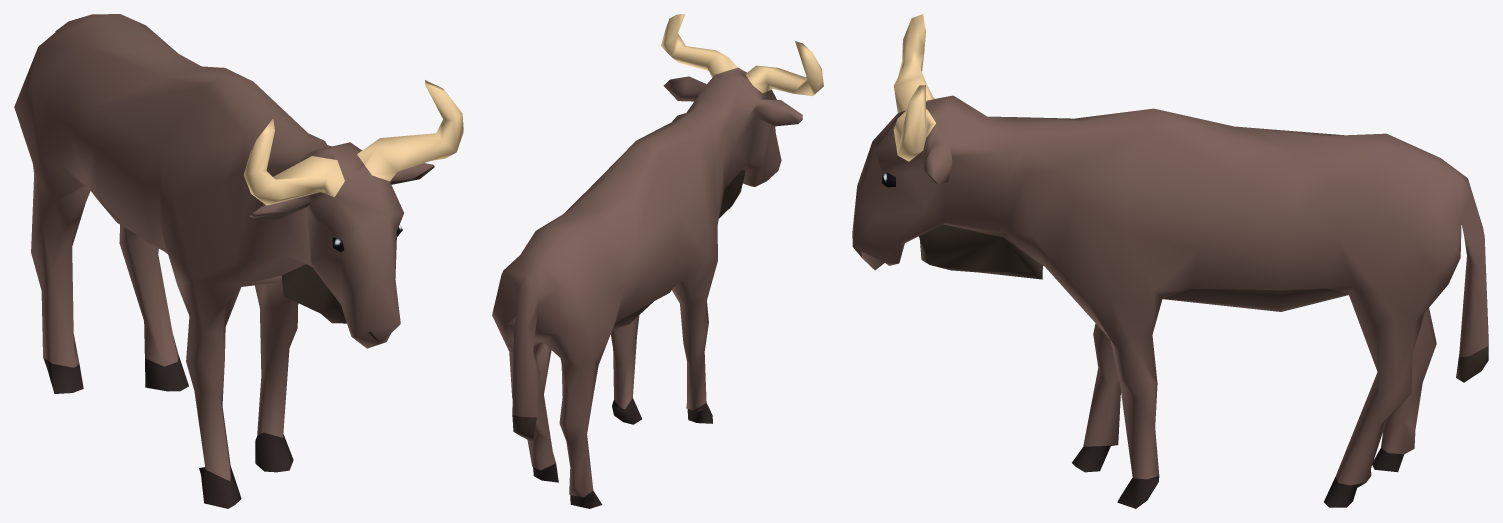
The model's file is a3c8bdcc-8b60-46e1-87e8-f16289769fc8.glb.
3 renders of one model, left to right at view 1: azimuth 30°, elevation 25°; view 2: azimuth 150°, elevation 25°; view 3: azimuth 270°, elevation 25°, orthographic. The views are drawn at different scales.
Parts seen in each view (by area): view 1: Wildebeast; view 2: Wildebeast; view 3: Wildebeast.
Part boxes in pixels (bbox=[...]): Wildebeast: bbox=[14, 14, 463, 508]; Wildebeast: bbox=[492, 14, 823, 508]; Wildebeast: bbox=[852, 14, 1488, 508].
Size of what is drawn, in the model's own units: 1.04 by 2.07 by 2.75.
2 materials, 2 textured.
